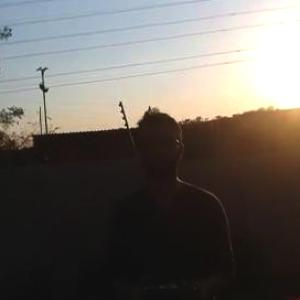follow: (96, 108, 243, 299)
